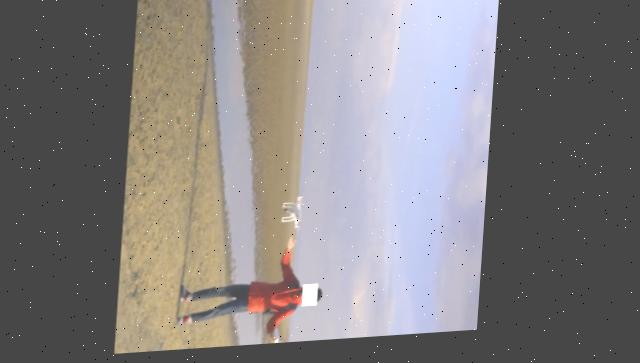drone: (283, 199, 309, 235)
